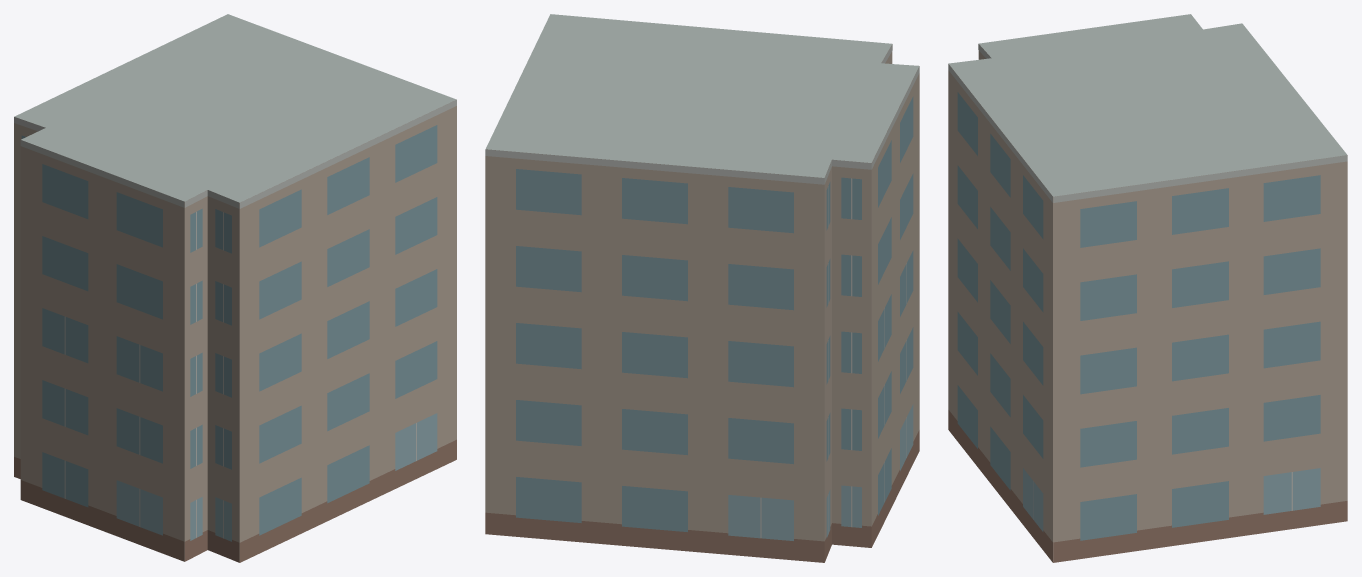
The model's file is survey-upis-32937855.glb.
3 renders of one model, left to right at view 1: azimuth 30°, elevation 25°; view 2: azimuth 150°, elevation 25°; view 3: azimuth 270°, elevation 25°, orthographic. The views are drawn at different scales.
Visible parts, largest first — view 1: survey-upis-32937855.tmp; view 2: survey-upis-32937855.tmp; view 3: survey-upis-32937855.tmp.
Part boxes in pixels (left/top/right/bottom): survey-upis-32937855.tmp: left=14, top=14, right=456, bottom=562; survey-upis-32937855.tmp: left=485, top=14, right=919, bottom=562; survey-upis-32937855.tmp: left=948, top=14, right=1347, bottom=562.
Size of the model in its own units: 14.99 by 14 by 13.84.
